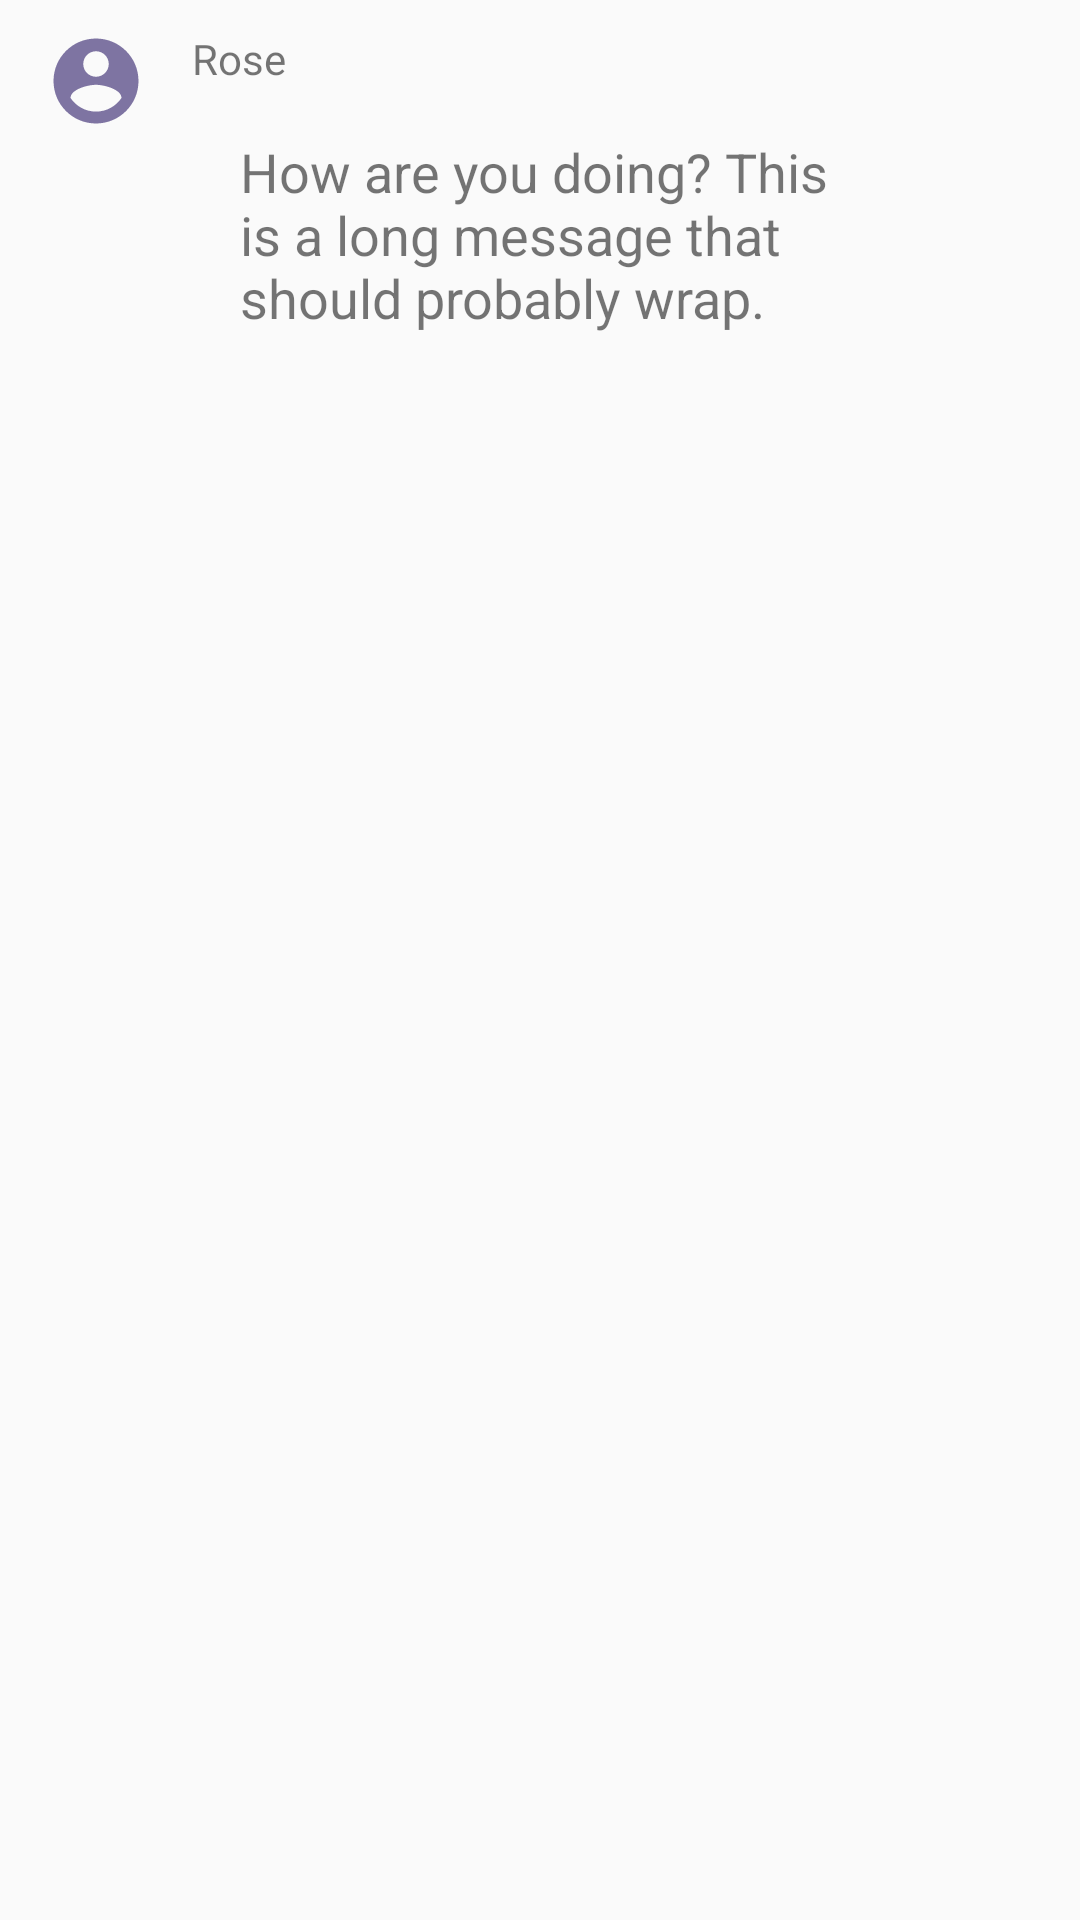

Where icons sit on this 1080px x 1920px app screen, as (x1, y1, x2, y2):
account circle: (53, 38, 139, 124)
